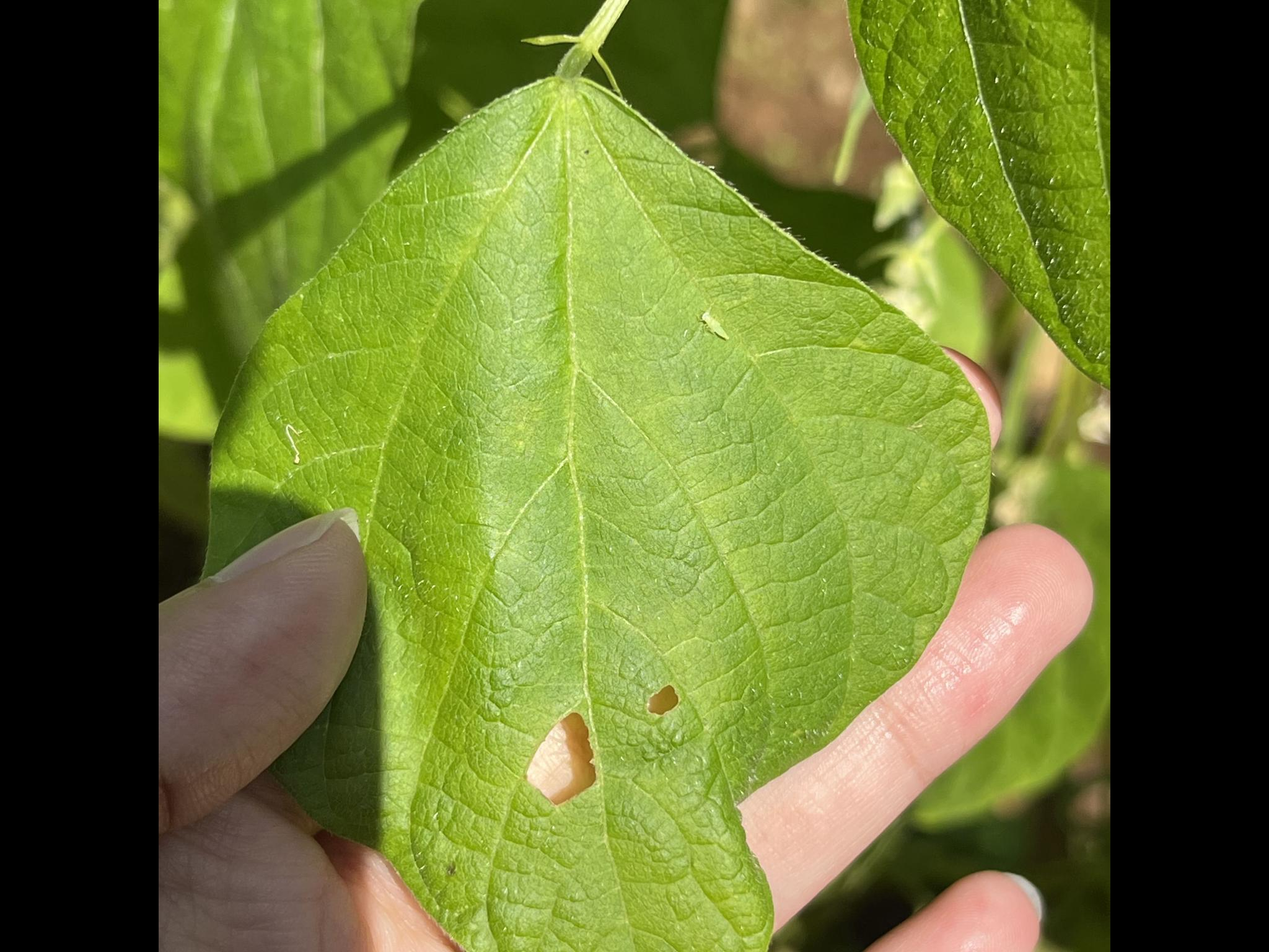mozaik: (525, 710, 614, 811), (637, 683, 698, 713)
